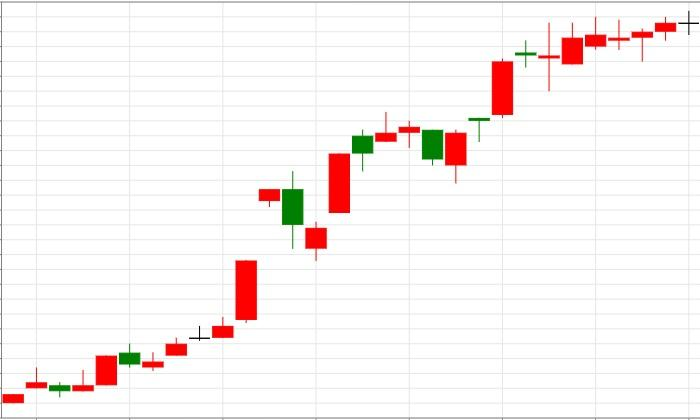bearish_engulfing_fall: (142, 171, 303, 371)
